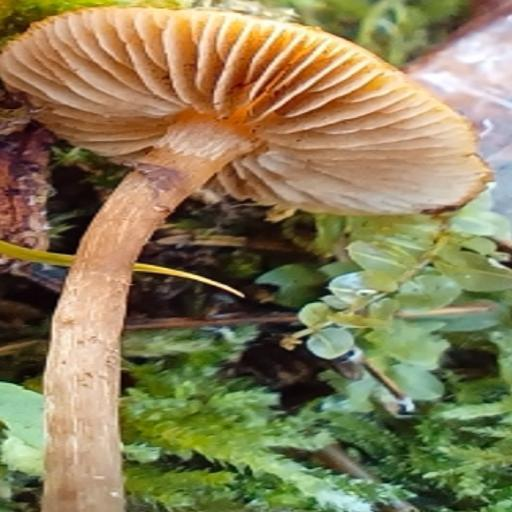mushroom: (10, 8, 493, 329)
